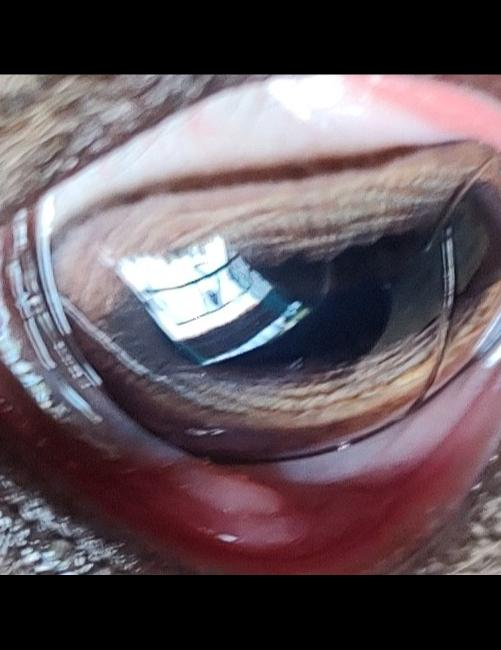eye_membrane: (102, 349, 501, 572), (34, 74, 501, 230)
